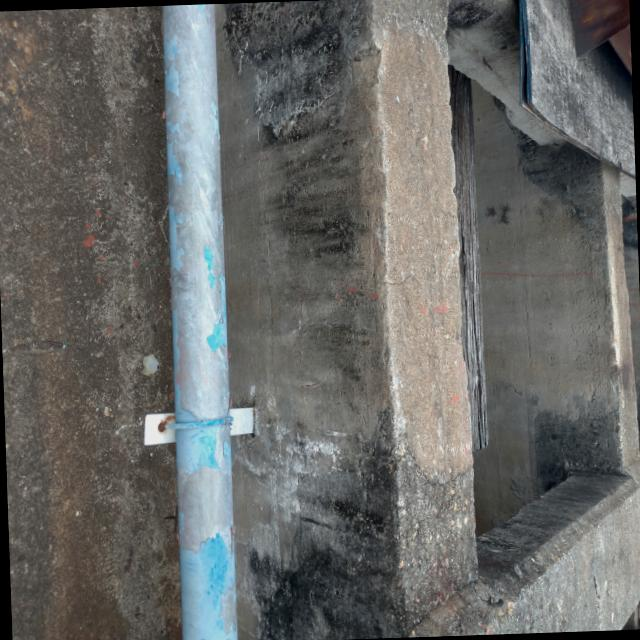gas: (162, 4, 235, 640)
